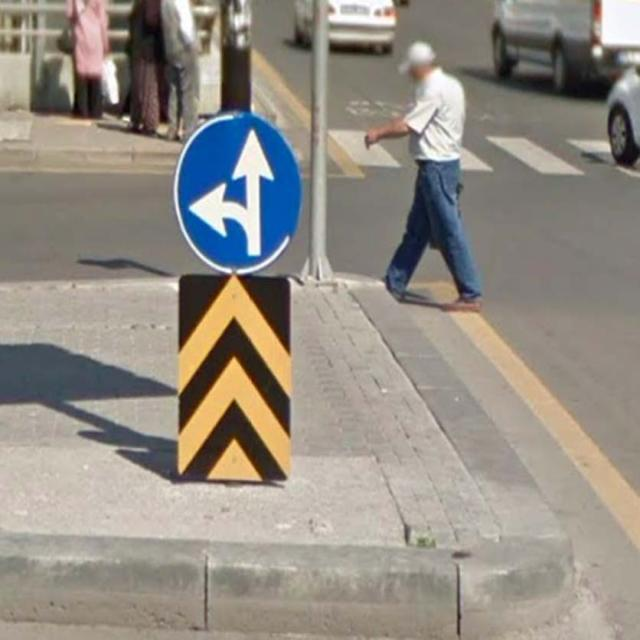ilerisol: (173, 112, 302, 274)
